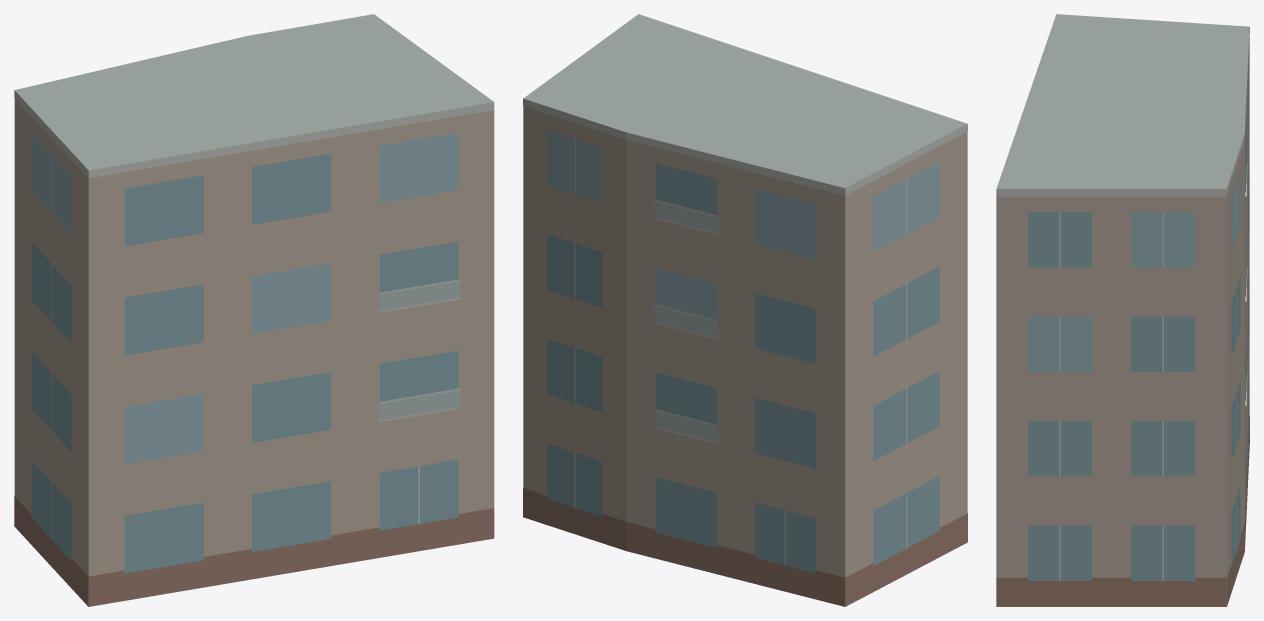
The model's file is survey-upis-32470877.glb.
3 renders of one model, left to right at view 1: azimuth 30°, elevation 25°; view 2: azimuth 150°, elevation 25°; view 3: azimuth 270°, elevation 25°, orthographic. The views are drawn at different scales.
Visible parts, largest first — view 1: survey-upis-32470877.tmp; view 2: survey-upis-32470877.tmp; view 3: survey-upis-32470877.tmp.
Part boxes in pixels (left/top/right/bottom): survey-upis-32470877.tmp: left=14, top=14, right=494, bottom=606; survey-upis-32470877.tmp: left=523, top=14, right=967, bottom=606; survey-upis-32470877.tmp: left=996, top=14, right=1249, bottom=606.
Bounding box in the file's own units: 12.14 × 13.5 × 7.43.
